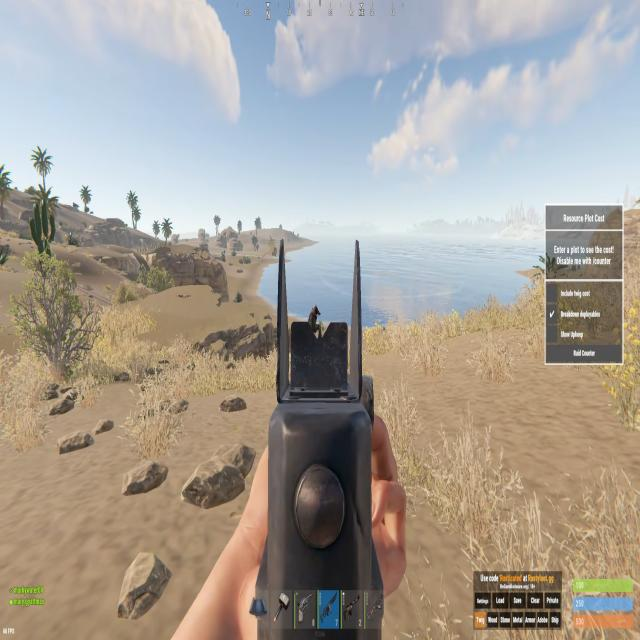Player: (308, 304, 321, 332)
